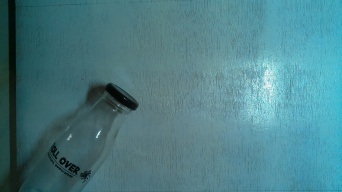f: (19, 81, 142, 192)
